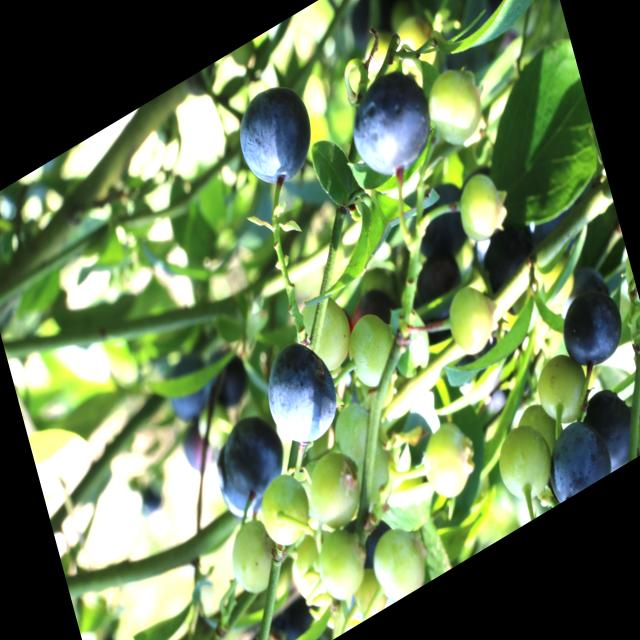blueberry: (340, 54, 442, 198), (228, 69, 322, 204), (256, 328, 346, 464), (208, 406, 294, 529), (555, 276, 632, 382), (537, 406, 613, 507), (578, 382, 638, 480)
blueberry-unripe: (297, 440, 371, 546), (421, 53, 489, 159), (489, 414, 558, 518), (253, 459, 321, 562), (364, 514, 436, 610), (310, 513, 377, 615), (296, 284, 361, 385), (414, 412, 479, 510), (442, 272, 504, 371), (223, 506, 284, 606), (344, 304, 402, 395), (534, 348, 592, 438), (452, 169, 508, 256), (288, 534, 336, 620)
